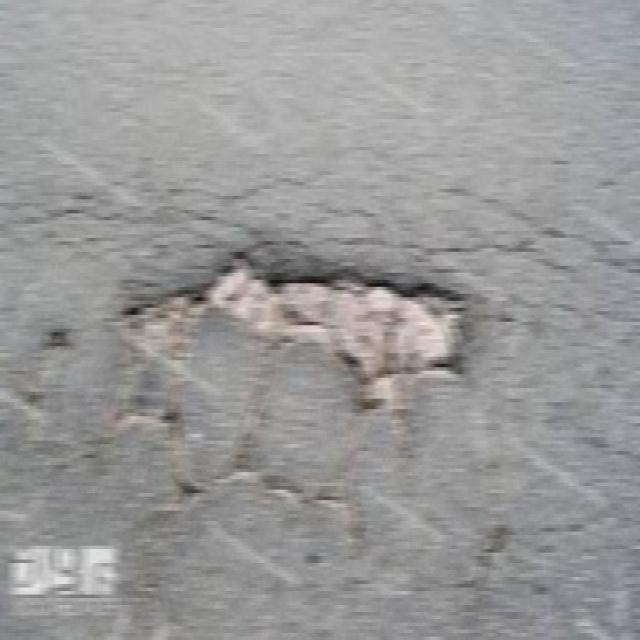Pothole: (90, 238, 482, 450), (94, 219, 494, 389)
